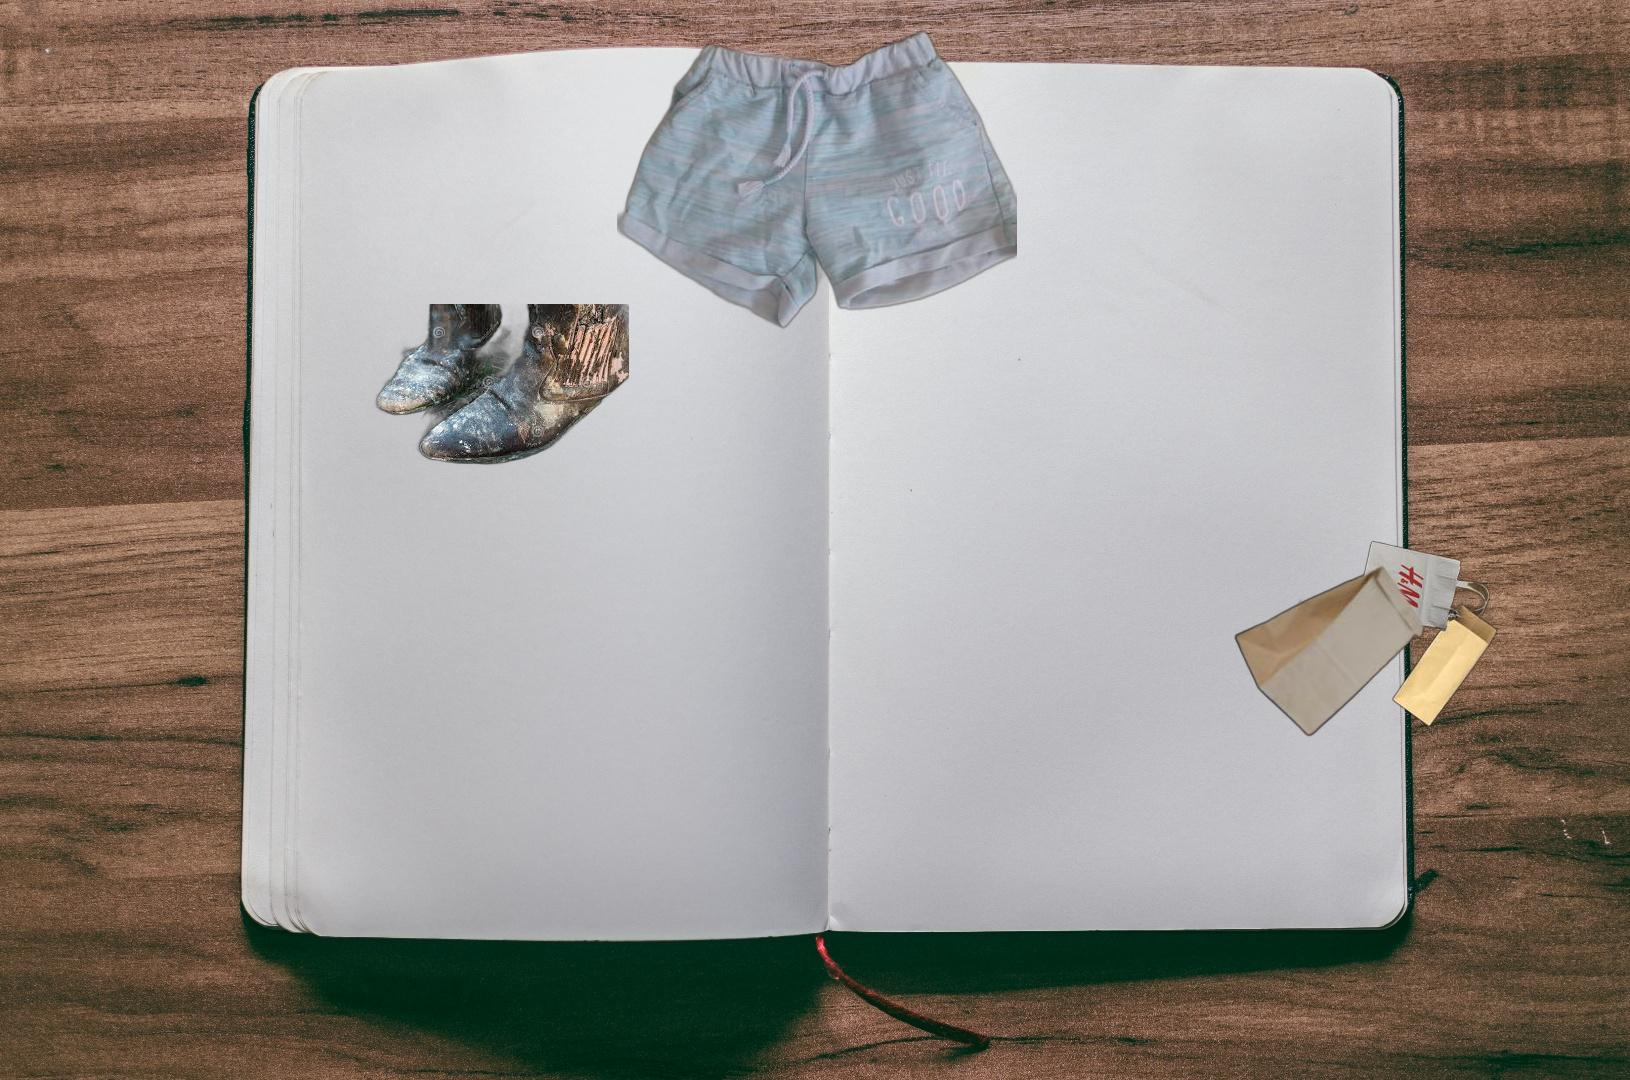clothes: (617, 25, 1017, 331)
paper-bag: (1232, 538, 1499, 738)
shoes: (370, 304, 629, 466)
